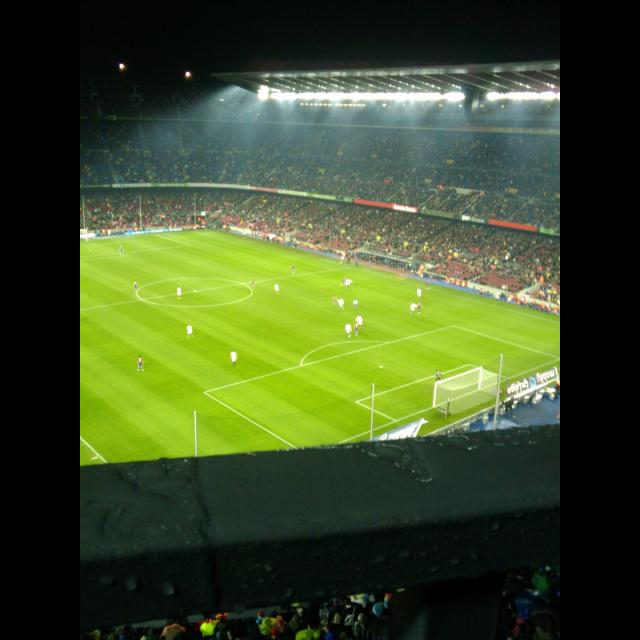Football: (340, 280, 344, 284)
